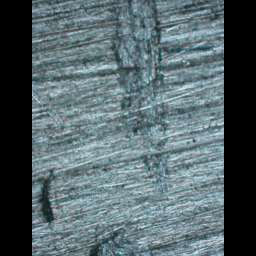d: (112, 0, 173, 191)
